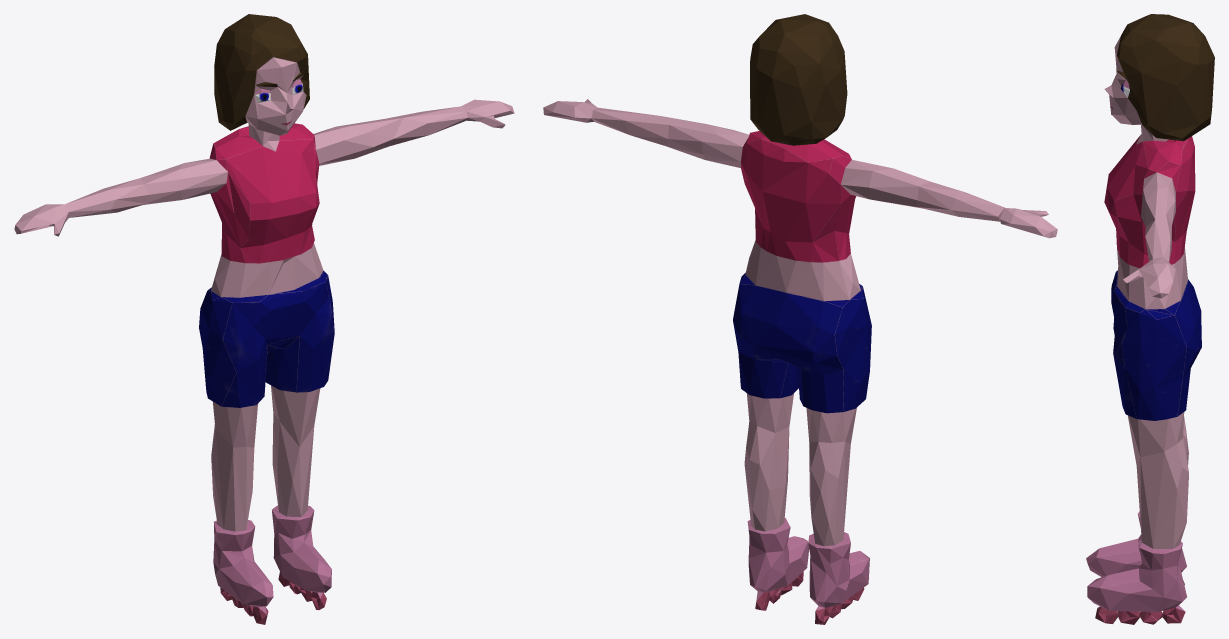
The model's file is nel6-3.fbx.
3 renders of one model, left to right at view 1: azimuth 30°, elevation 25°; view 2: azimuth 150°, elevation 25°; view 3: azimuth 270°, elevation 25°, orthographic. The views are drawn at different scales.
Visible parts, largest first — view 1: Nel; view 2: Nel; view 3: Nel.
Part boxes in pixels (x1,y1,x2,y2): Nel: [14, 14, 514, 624]; Nel: [543, 14, 1057, 624]; Nel: [1086, 14, 1214, 624].
Size of the model in its own units: 13148 by 14555 by 2882.
Materials: 1 (1 with a texture image).
